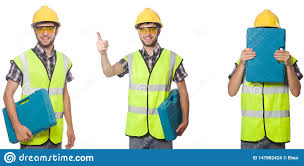Person_wearing_helmet: (26, 5, 64, 33), (131, 6, 164, 33)
